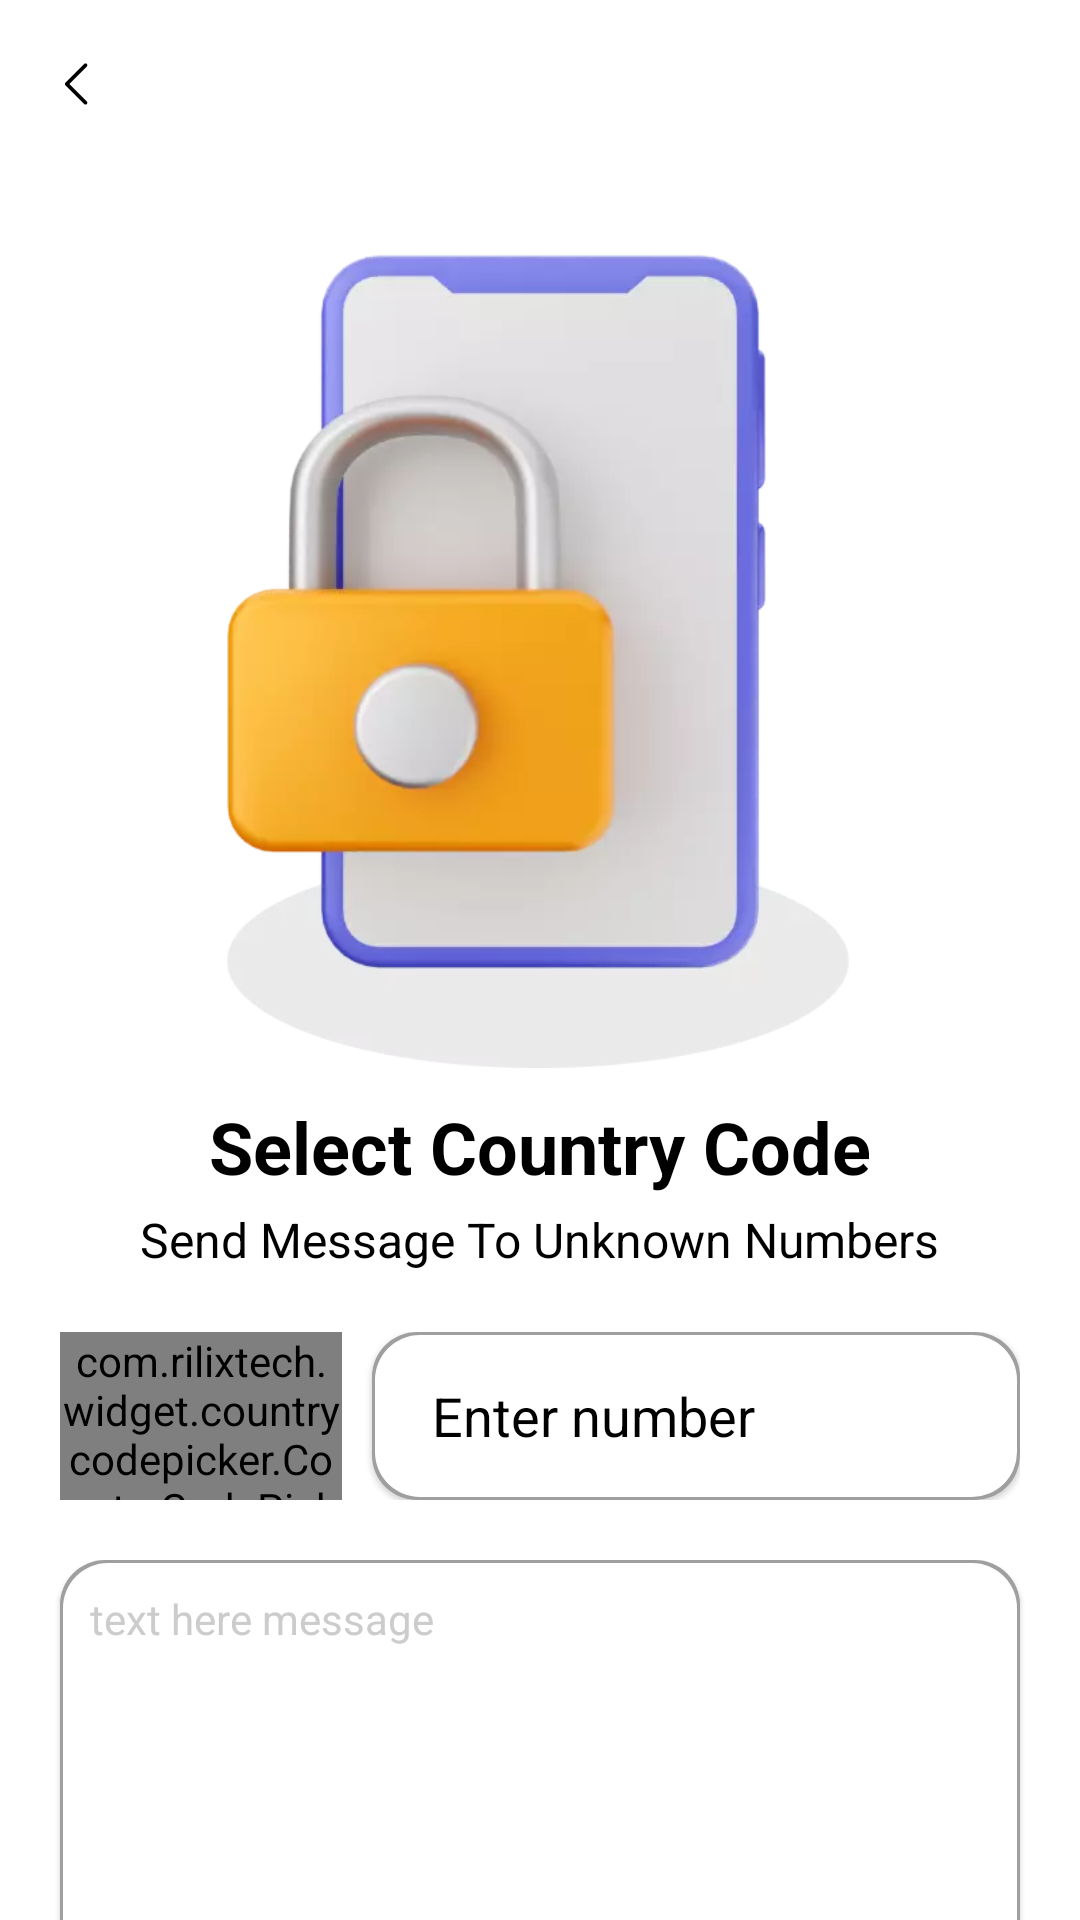

Where to tap for icons on this 1080 × 1920 app screen, as (x=x, y=y):
back: (x=76, y=84)
